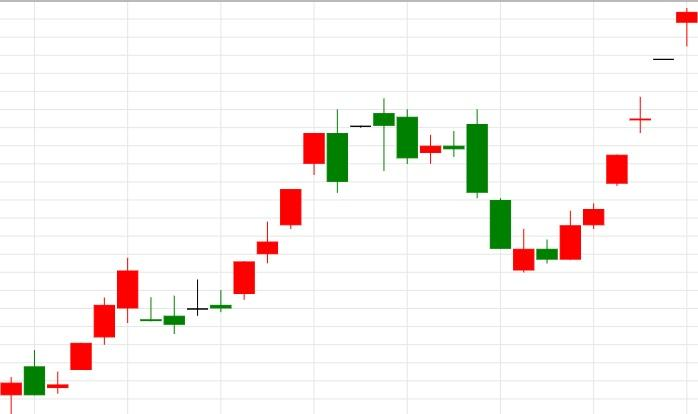bearish_engulfing_fall: (163, 109, 349, 334)
